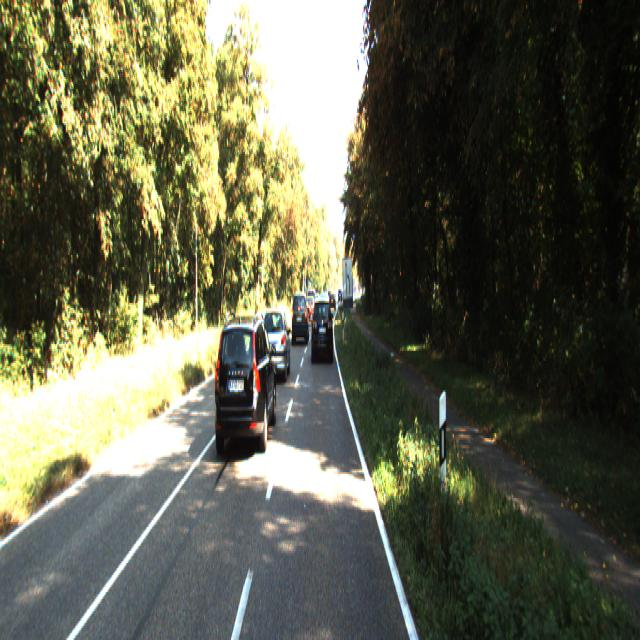Car: (211, 309, 277, 461), (260, 304, 291, 381), (310, 293, 332, 359), (291, 287, 308, 339)
